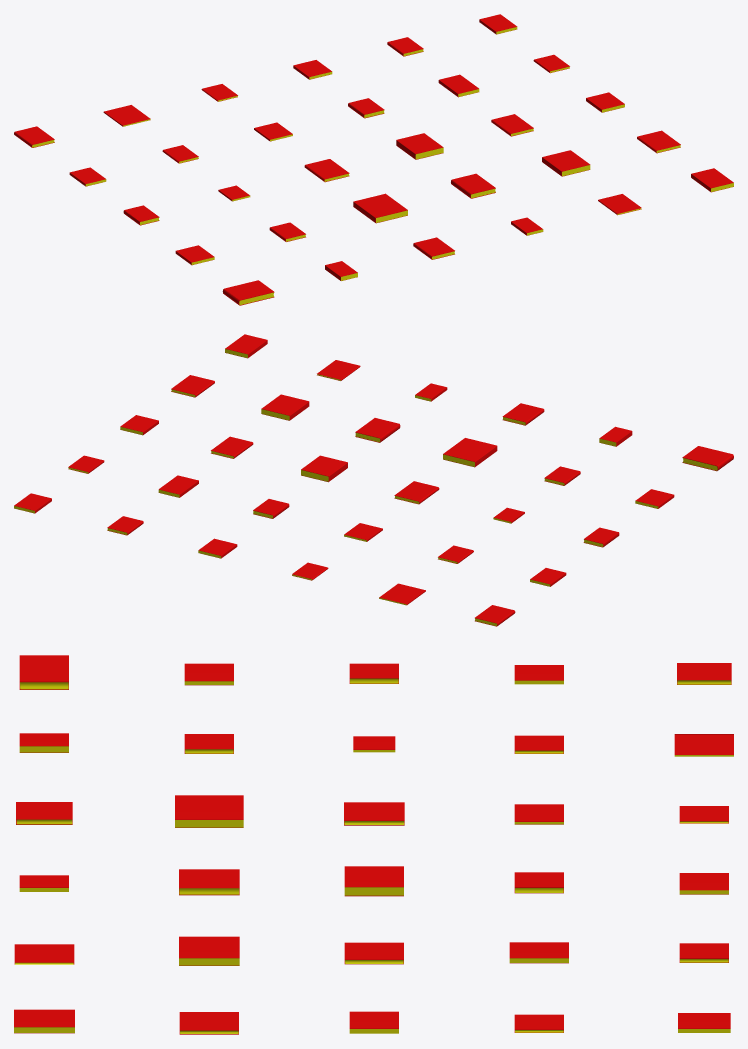
The model's file is books_grp.fbx.
3 views of the same model, one above another, from view 1: azimuth 30°, elevation 25°; view 2: azimuth 150°, elevation 25°; view 3: azimuth 270°, elevation 25° (orthographic). The views are drawn at different scales.
Parts seen in each view (by area): view 1: book_12, book_1, book_18, book_22, book_17, book_26, book_13, book_10, book_27, book_11, book_23, book_24 (+7 smaller); view 2: book_12, book_1, book_22, book_18, book_17, book_26, book_13, book_10, book_27, book_11, book_23, book_24 (+5 smaller); view 3: book_12, book_18, book_22, book_1, book_17, book_26, book_13, book_10, book_27, book_23, book_24, book_11 (+18 smaller).
Boxes of the visible parts, bbox=[...] form: book_12: bbox=[353, 193, 407, 223]; book_1: bbox=[222, 280, 274, 305]; book_18: bbox=[396, 133, 443, 159]; book_22: bbox=[542, 150, 590, 176]; book_17: bbox=[451, 173, 495, 198]; book_26: bbox=[691, 168, 733, 192]; book_13: bbox=[304, 159, 349, 182]; book_10: bbox=[103, 105, 150, 126]; book_27: bbox=[637, 130, 680, 153]; book_11: bbox=[413, 237, 454, 259]; book_23: bbox=[491, 114, 533, 136]; book_24: bbox=[438, 74, 479, 97]; book_12: bbox=[443, 438, 497, 467]; book_1: bbox=[682, 446, 733, 471]; book_22: bbox=[261, 394, 309, 420]; book_18: bbox=[301, 455, 347, 482]; book_17: bbox=[355, 418, 400, 442]; book_26: bbox=[225, 334, 267, 358]; book_13: bbox=[394, 481, 439, 504]; book_10: bbox=[379, 583, 425, 605]; book_27: bbox=[171, 375, 214, 397]; book_11: bbox=[502, 403, 544, 425]; book_23: bbox=[211, 436, 253, 458]; book_24: bbox=[158, 475, 198, 497]; book_12: bbox=[175, 795, 243, 827]; book_18: bbox=[344, 866, 403, 896]; book_22: bbox=[179, 936, 239, 965]; book_1: bbox=[19, 655, 68, 689]; book_17: bbox=[179, 869, 239, 895]; book_26: bbox=[14, 1009, 74, 1033]; book_13: bbox=[344, 802, 404, 825]; book_10: bbox=[674, 734, 733, 756]; book_27: bbox=[179, 1012, 238, 1034]; book_23: bbox=[344, 942, 403, 964]; book_24: bbox=[509, 942, 568, 963]; book_11: bbox=[16, 802, 72, 824].
Size of the model in its own units: 533 by 6.27 by 436.
